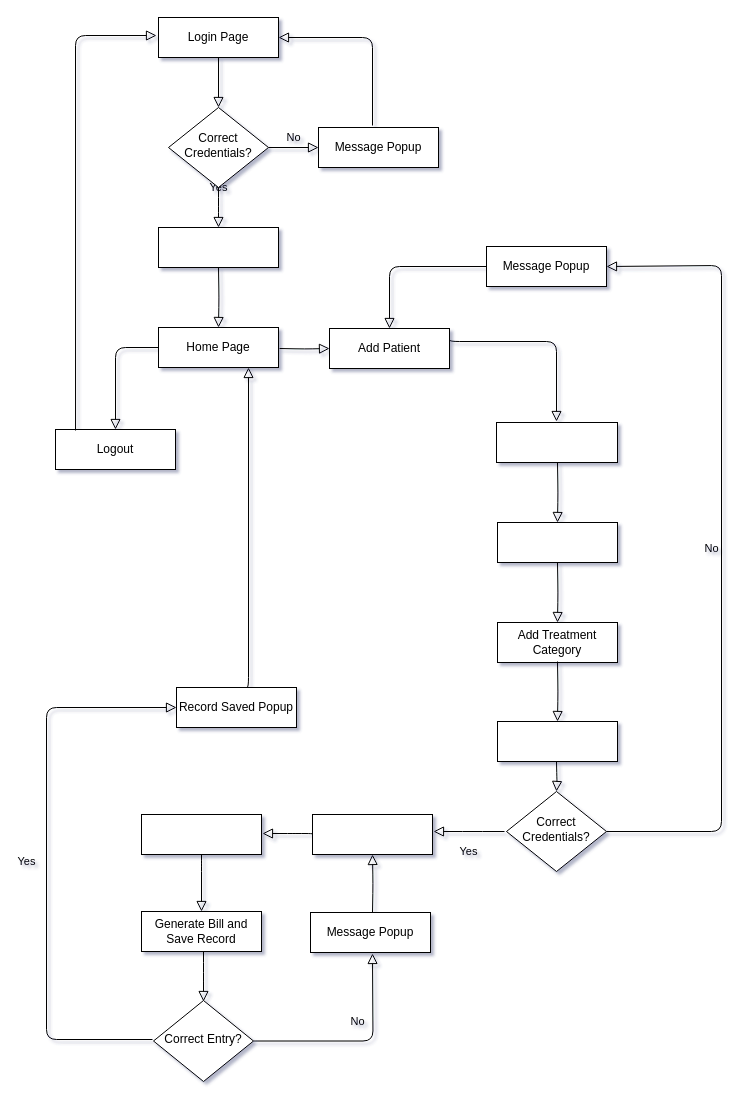
Image size: 755x1105. Some labels were removed from this diagram. The shapes that lost their labels are listed below. From the top down, each one's box as (x1, y1, x2, y2) in pixels, then its label:
(158, 226, 278, 268): Login Successful
(496, 422, 618, 462): Add Patient Name
(496, 522, 618, 562): Add Patient Age
(496, 720, 618, 762): Add Patient & Go to Transaction Page
(140, 814, 262, 854): Add Base Cost Amount
(312, 814, 432, 854): Transaction Page
